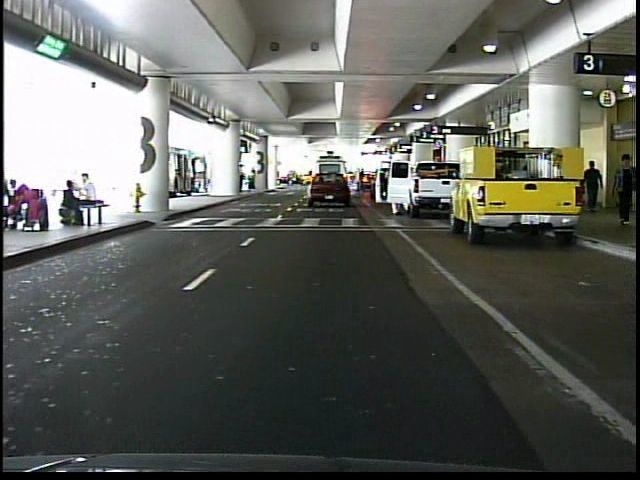person: (608, 148, 631, 229), (581, 155, 606, 212), (248, 167, 259, 192)
